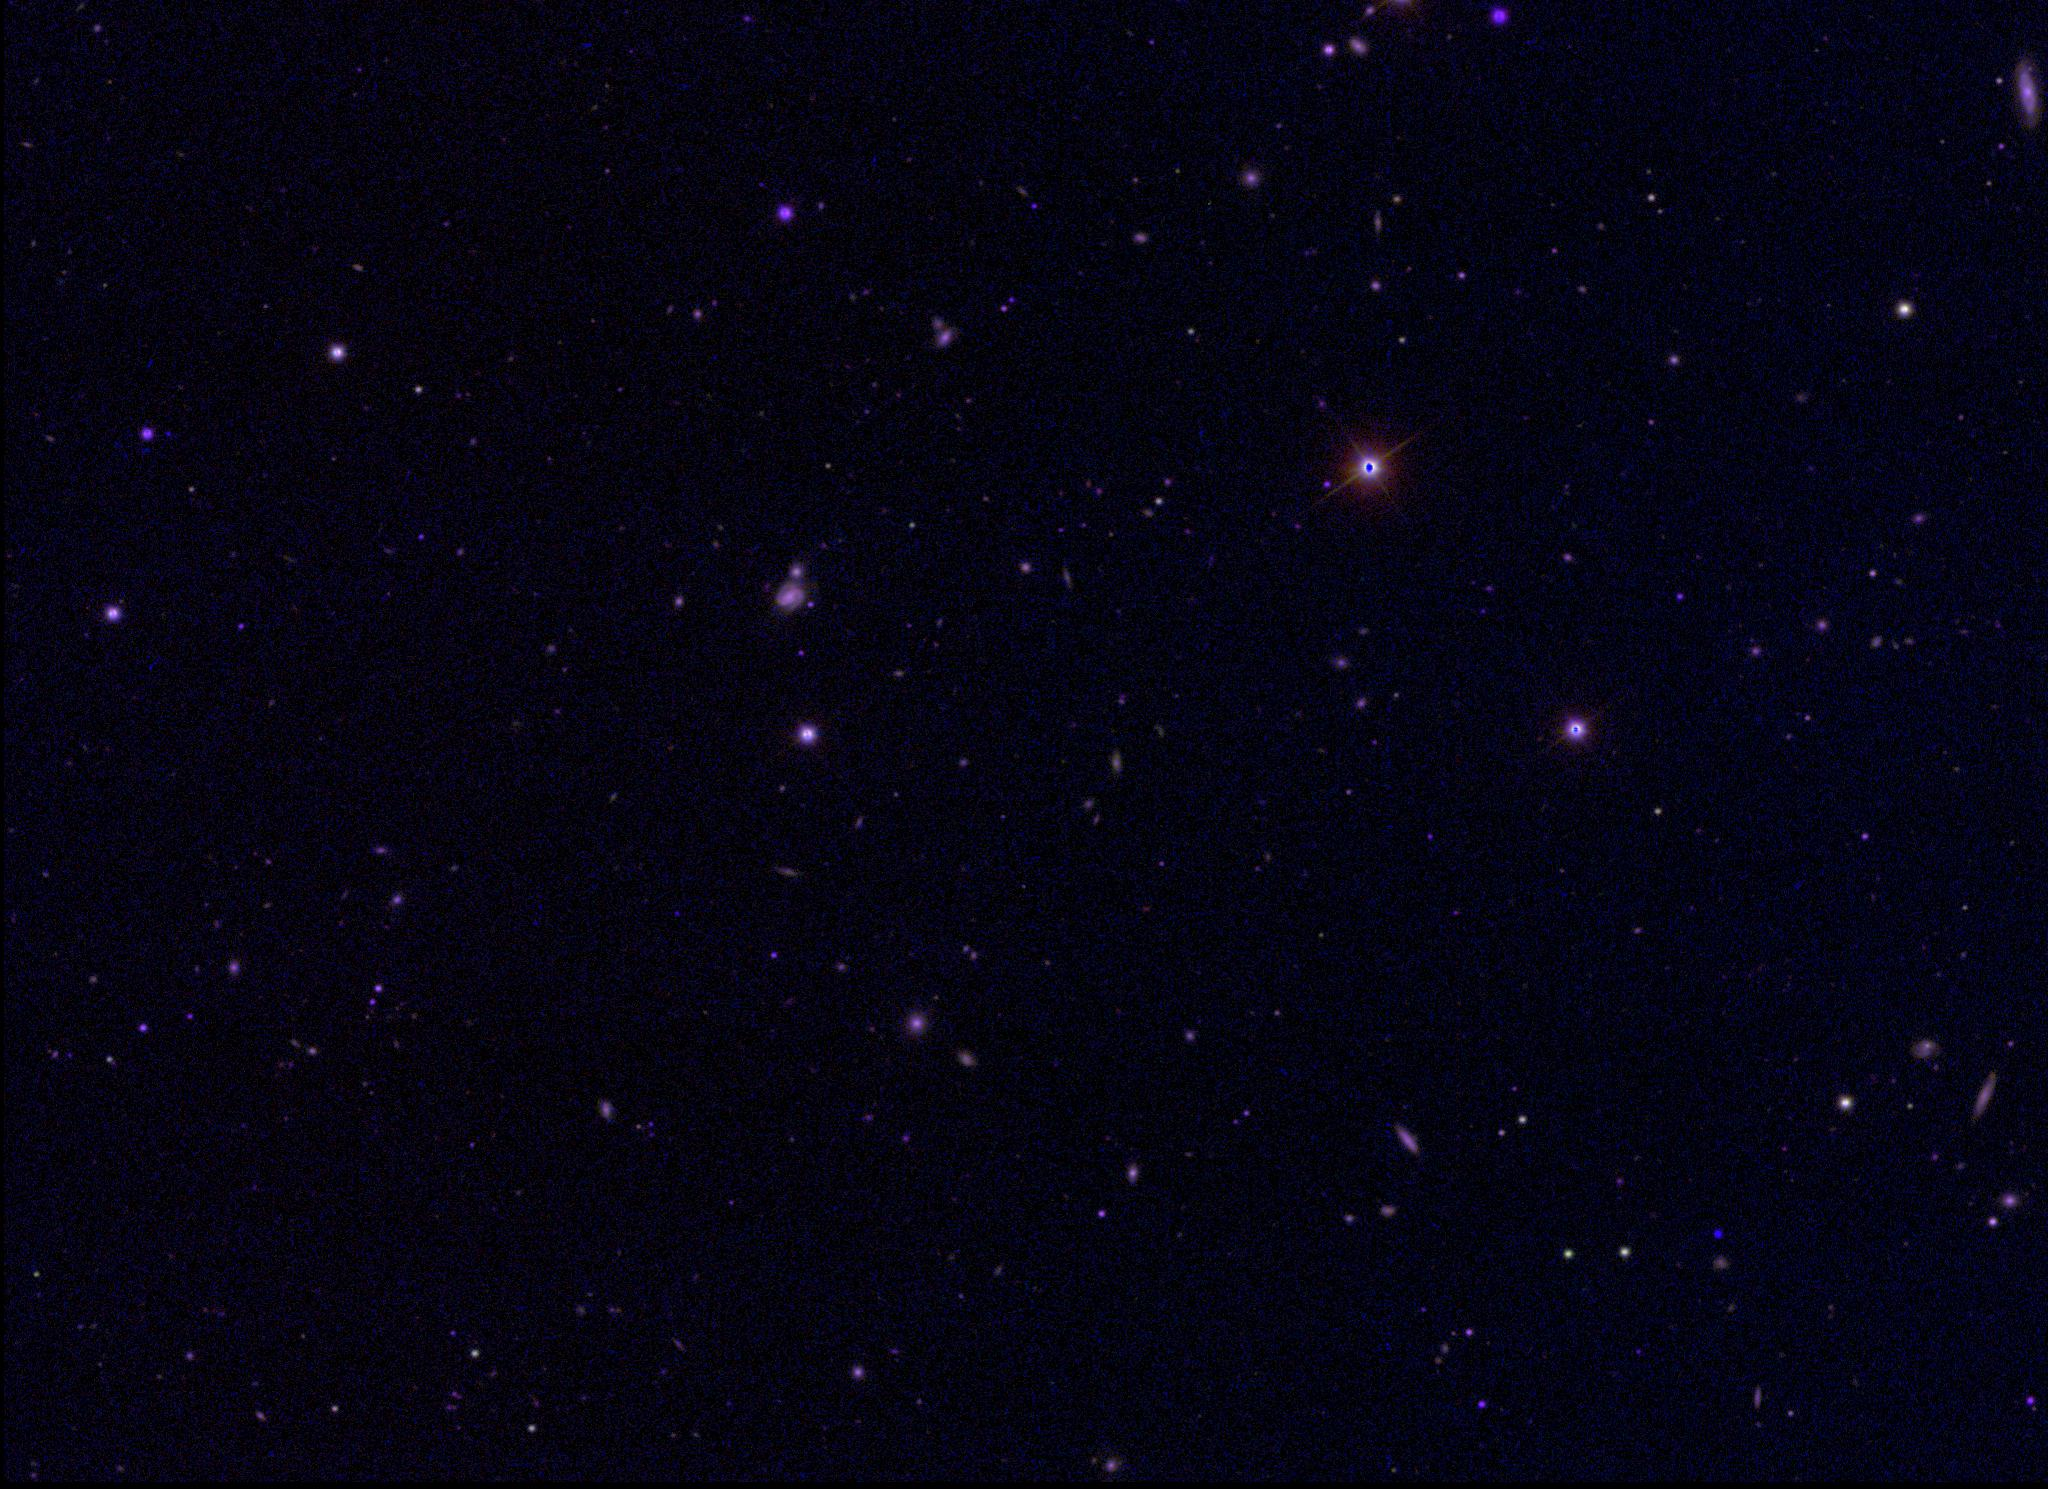L: (1709, 1227, 1724, 1239)
